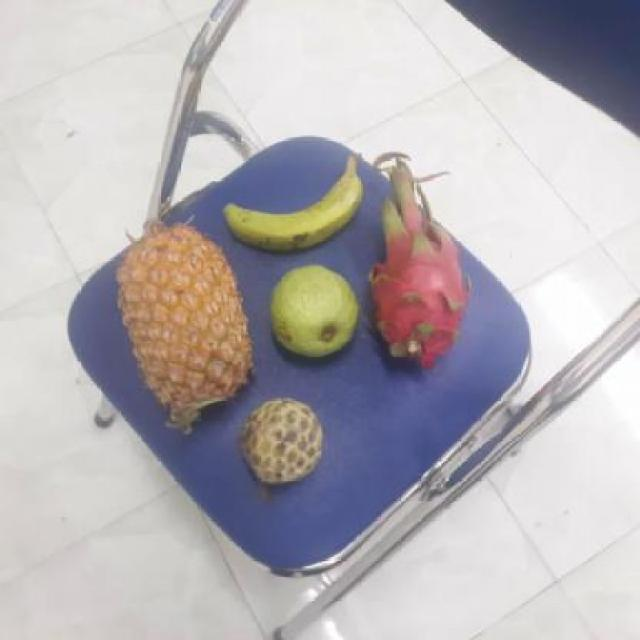banana: (222, 144, 366, 253)
dragon fruit: (358, 196, 469, 361)
guava: (267, 262, 361, 356)
pineapple: (114, 223, 254, 420)
sugar apple: (234, 398, 324, 484)
